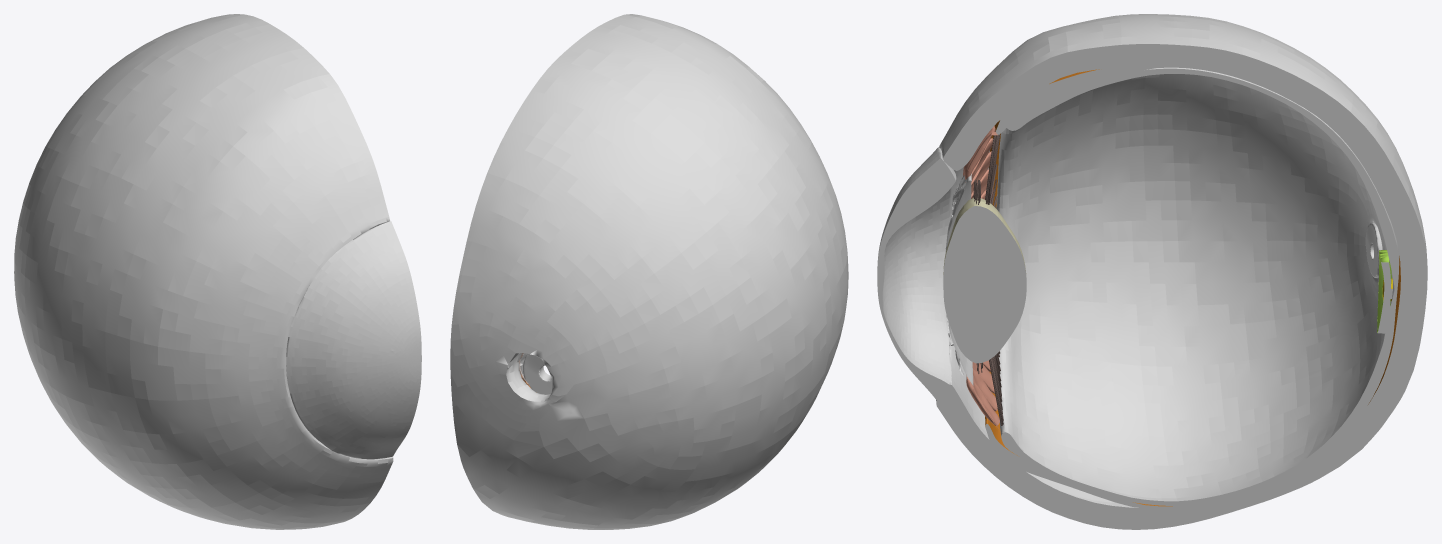
Rendered from eye-section.glb.
The picture shows the model from 3 angles, left to right: view 1: azimuth 30°, elevation 25°; view 2: azimuth 150°, elevation 25°; view 3: azimuth 270°, elevation 25°; orthographic projection. The views are drawn at different scales.
Parts seen in each view (by area): view 1: Sclera, Cornea; view 2: Sclera, Optic disc; view 3: Retina, Sclera, Cornea, Lens, Choroid, Ciliary muscle, Zonules, Iris, Macula lutea, Optic disc.
Part boxes in pixels (bbox=[...]): Sclera: bbox=[14, 14, 393, 529]; Cornea: bbox=[286, 221, 421, 459]; Sclera: bbox=[450, 14, 848, 529]; Optic disc: bbox=[523, 354, 552, 394]; Retina: bbox=[996, 67, 1399, 505]; Sclera: bbox=[936, 14, 1427, 529]; Cornea: bbox=[877, 147, 956, 401]; Lens: bbox=[943, 198, 1026, 363]; Choroid: bbox=[985, 65, 1403, 509]; Ciliary muscle: bbox=[963, 126, 999, 428]; Zonules: bbox=[973, 131, 1003, 425]; Iris: bbox=[945, 173, 973, 385]; Macula lutea: bbox=[1377, 250, 1391, 333]; Optic disc: bbox=[1365, 222, 1382, 277].
Size of the model in its own units: 0.0127 by 0.0244 by 0.025.
